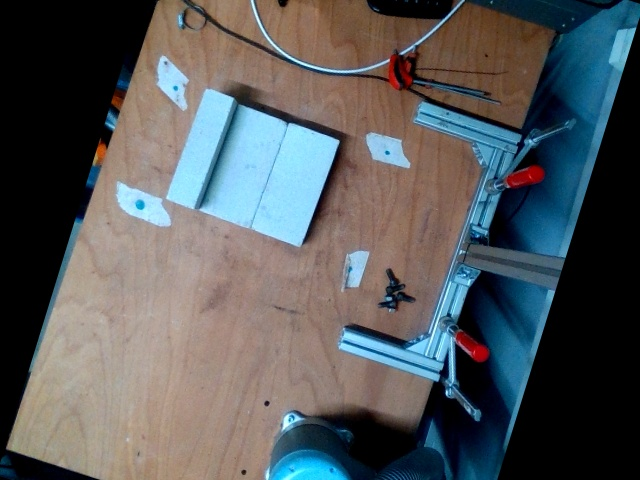brick-side: (162, 85, 236, 210)
